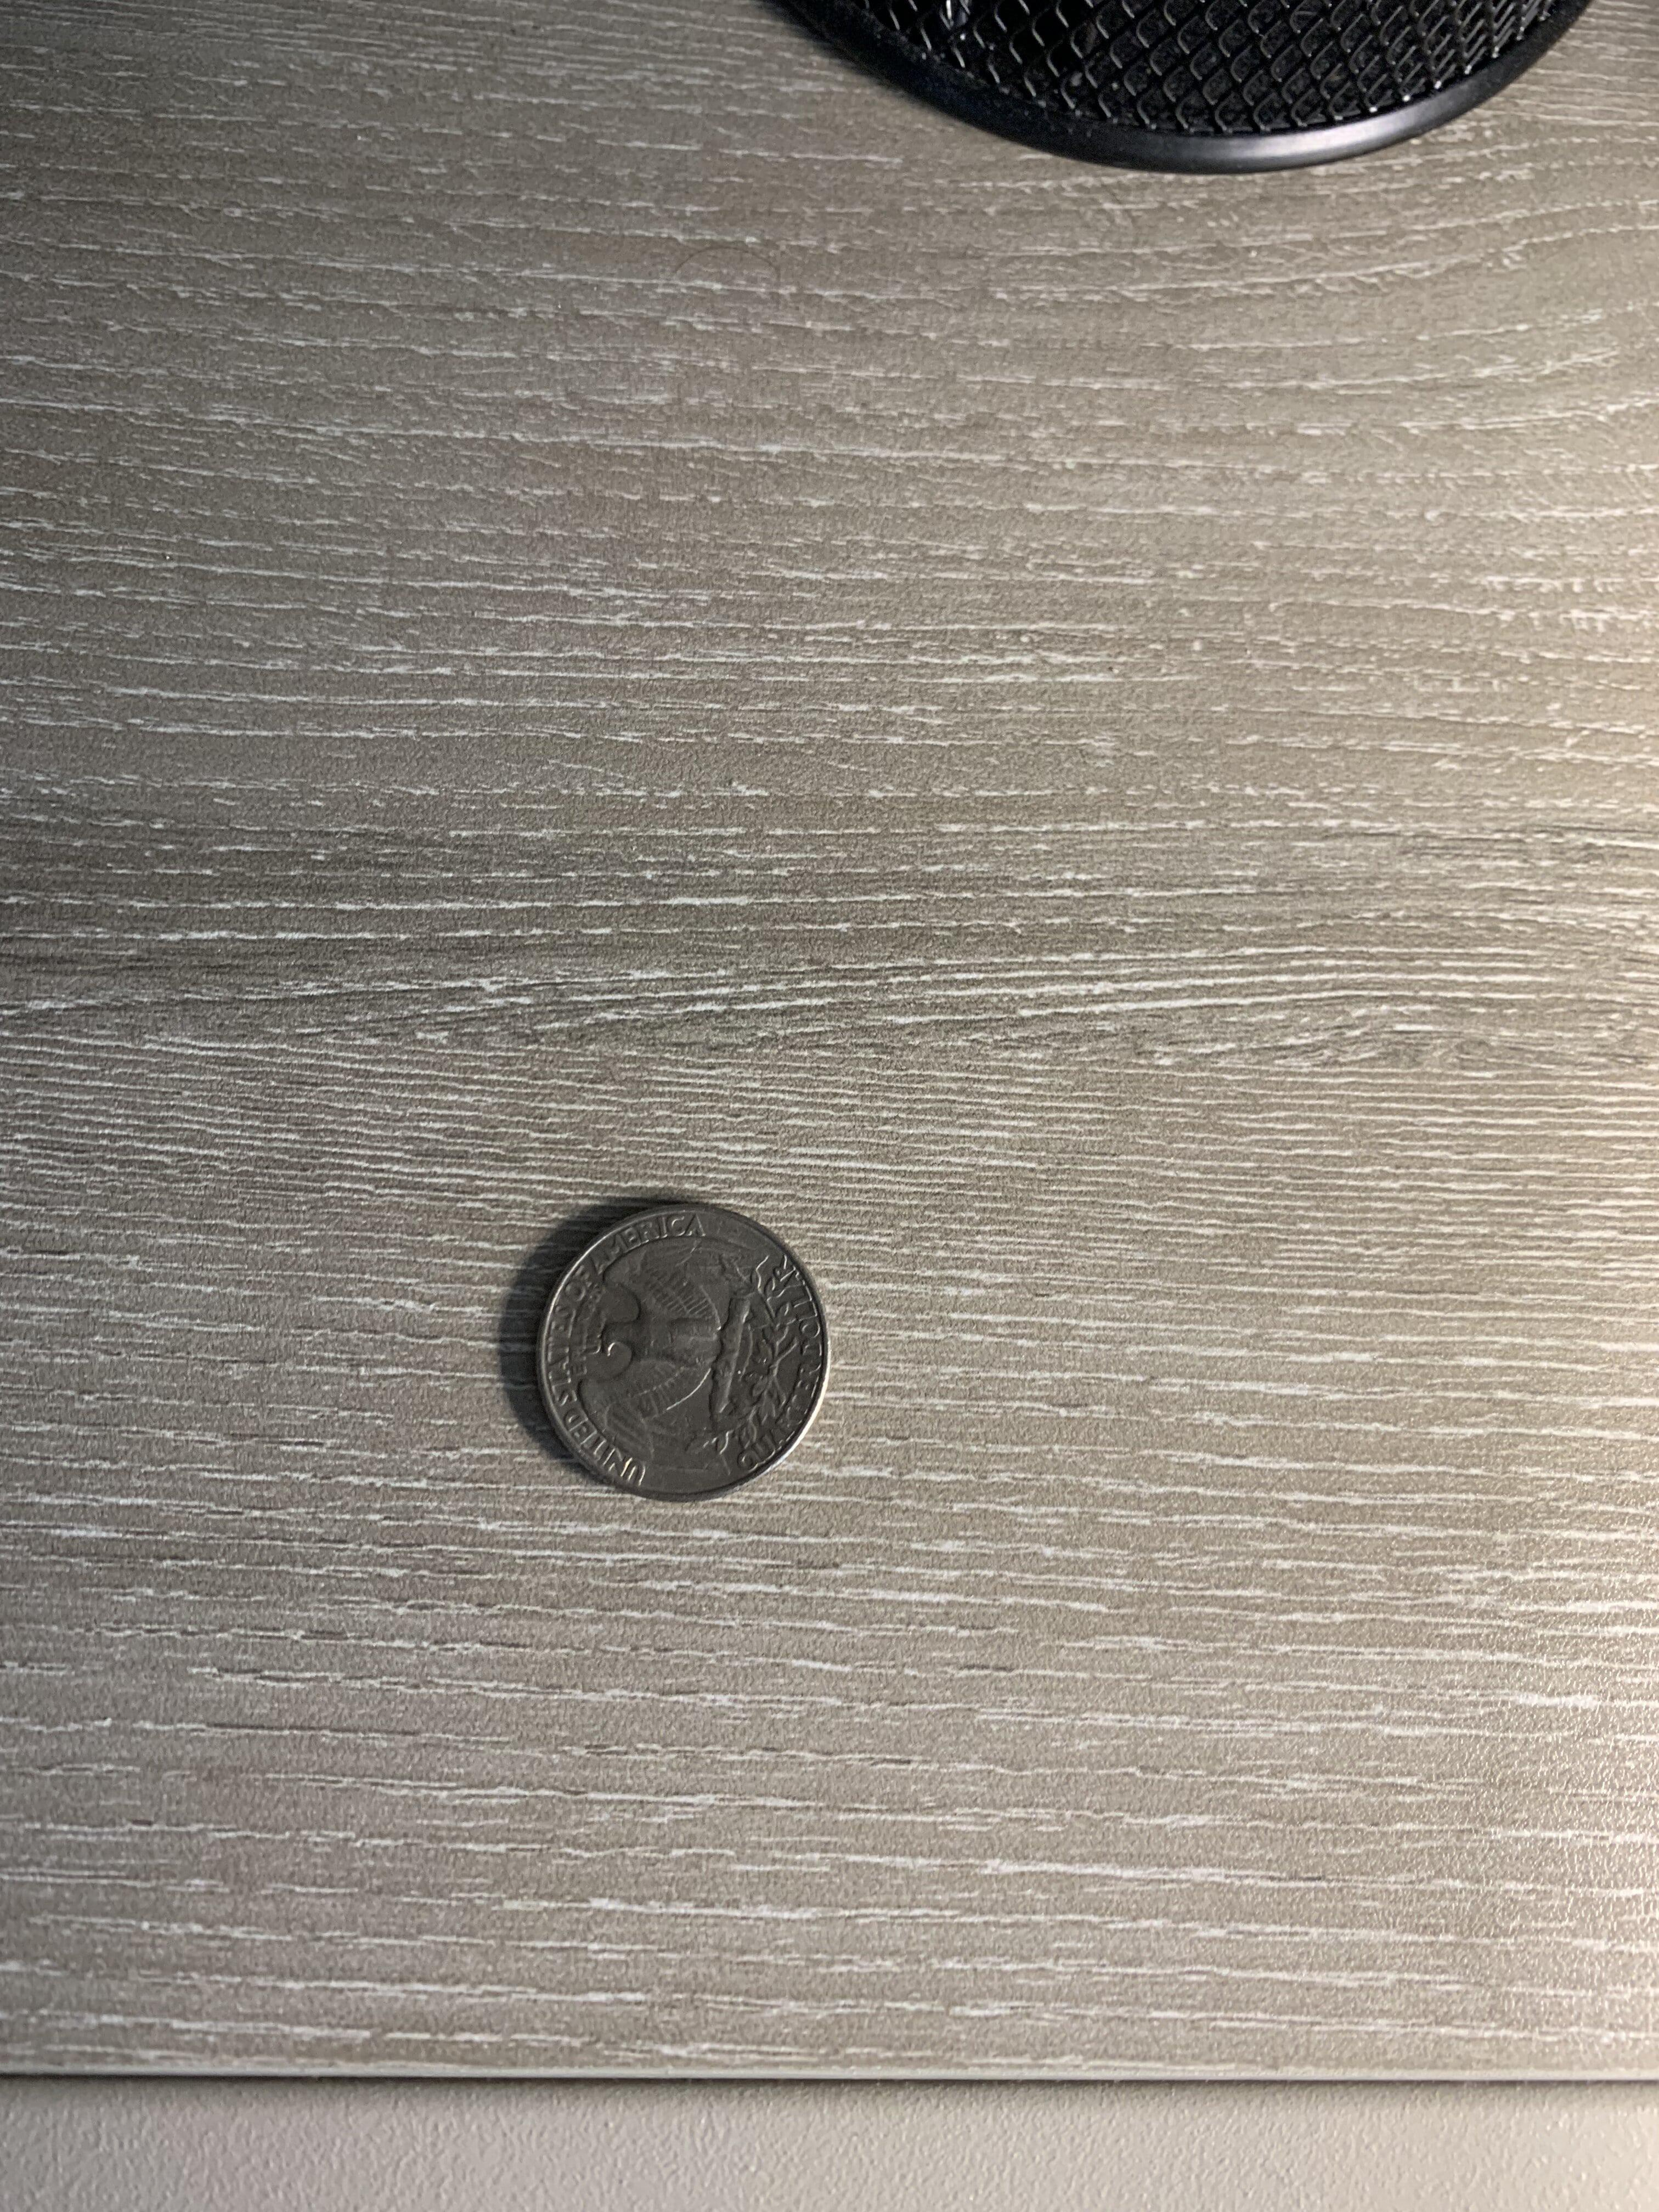Quarter: (495, 1176, 859, 1524)
